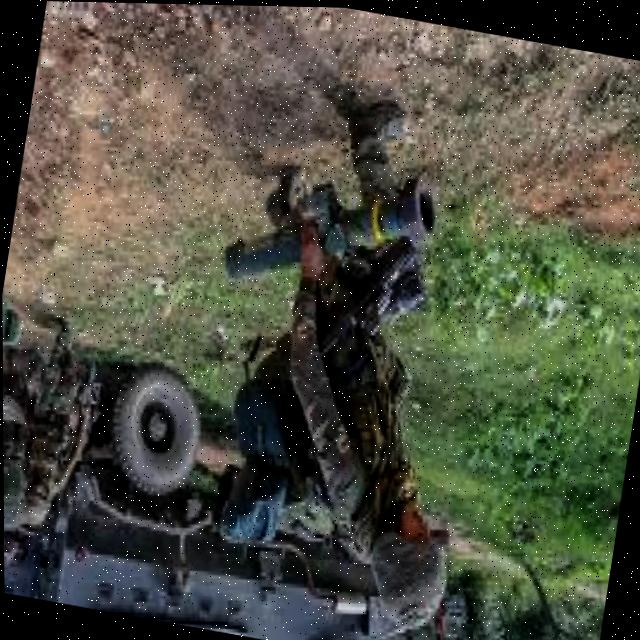rocket: (201, 135, 455, 324)
